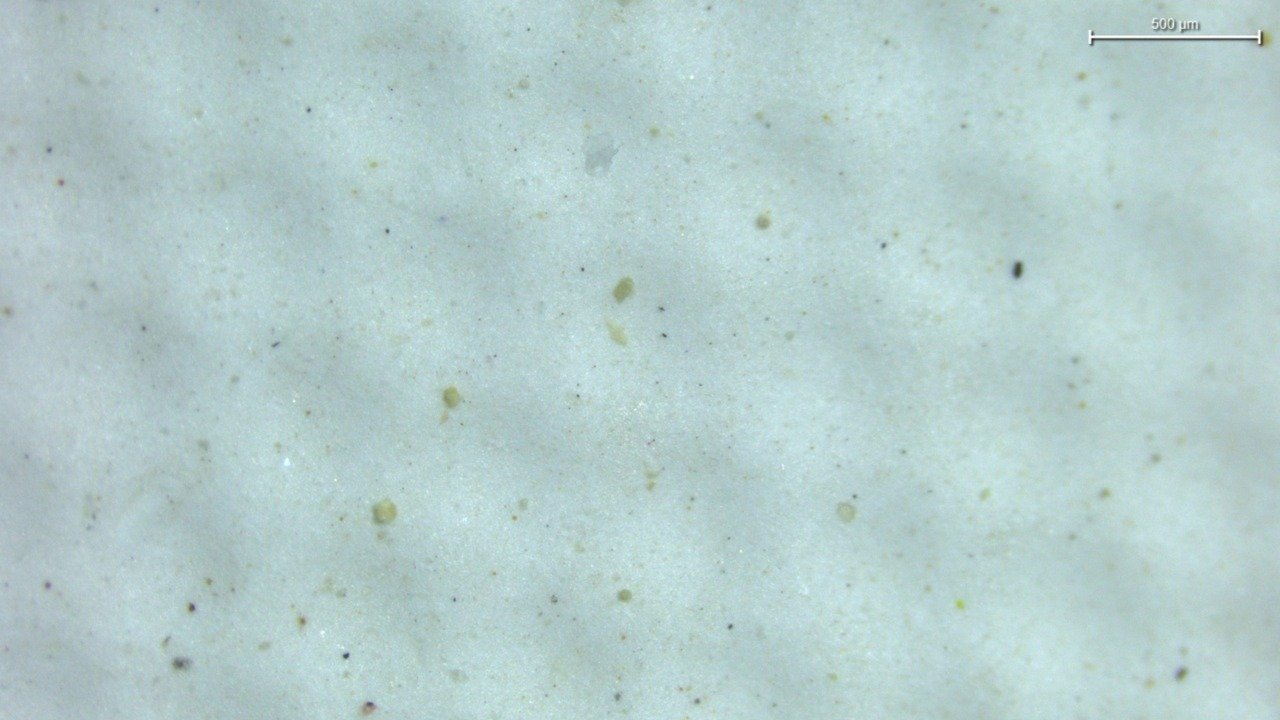microplastic_fragment: (584, 132, 618, 172)
